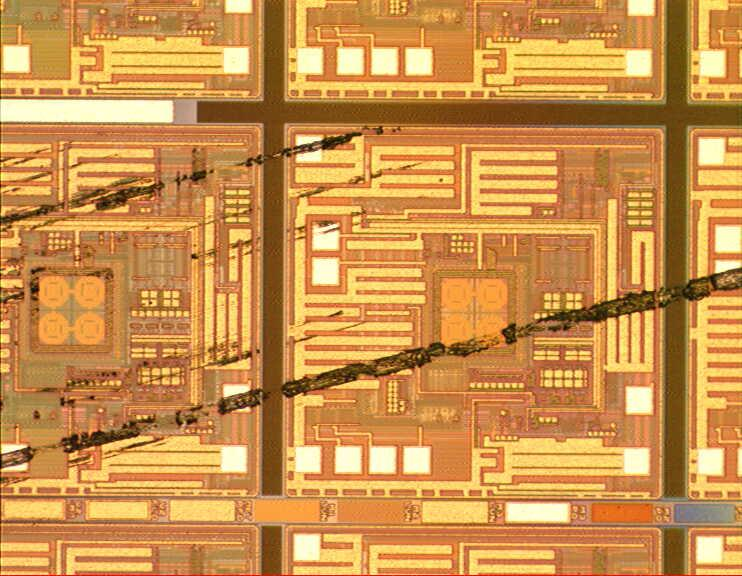SCRATCH: (1, 252, 742, 488), (1, 102, 445, 322)
